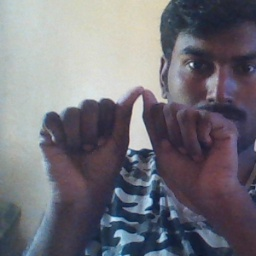A: (55, 83, 219, 191)
